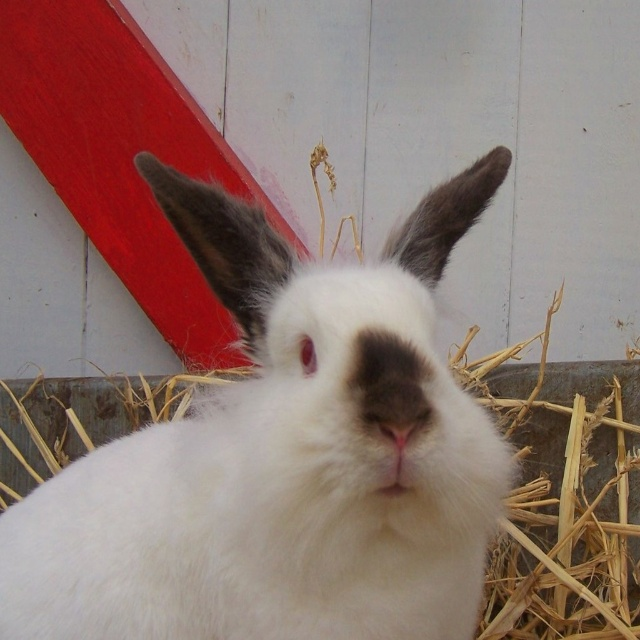Rabbit: (0, 145, 572, 640)
